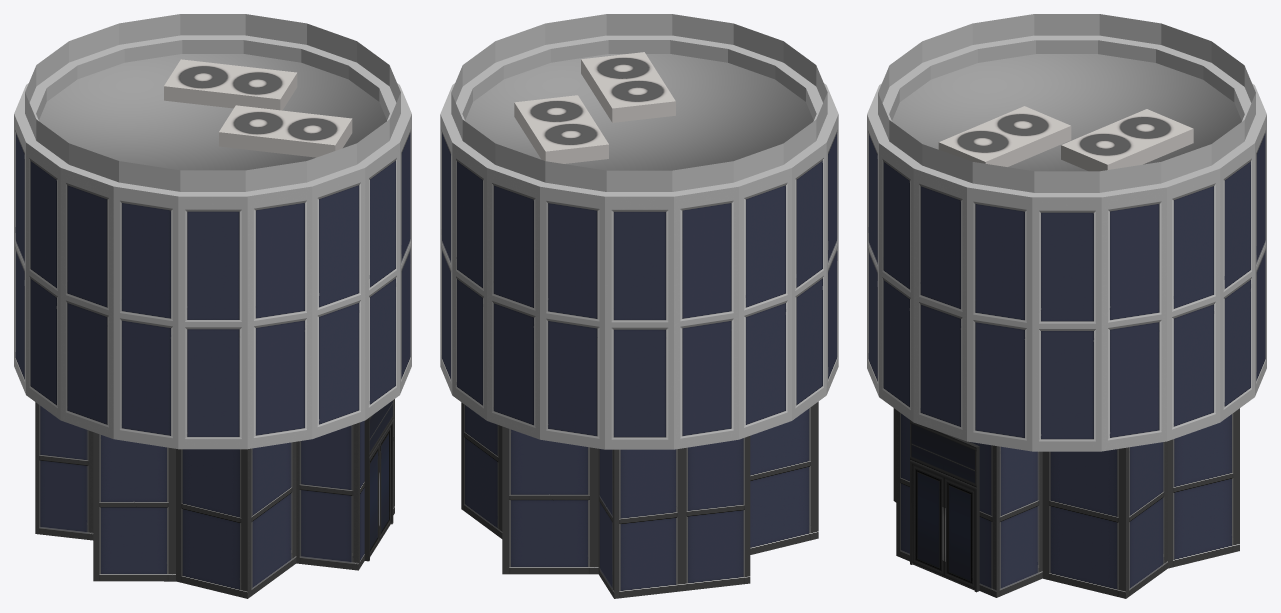
Rendered from Office_Block_lvl_1.fbx.
3 views of the same model, side by side, from view 1: azimuth 30°, elevation 25°; view 2: azimuth 150°, elevation 25°; view 3: azimuth 270°, elevation 25° (orthographic).
Parts seen in each view (by area): view 1: Office_Block_lvl_1, Office_Block_lvl_1_Fence, Door; view 2: Office_Block_lvl_1, Office_Block_lvl_1_Fence; view 3: Office_Block_lvl_1, Office_Block_lvl_1_Fence, Door.
Boxes of the visible parts, x1,y1,x2,y2 form: Office_Block_lvl_1: (14, 35, 411, 598); Office_Block_lvl_1_Fence: (25, 14, 400, 191); Door: (364, 400, 393, 561); Office_Block_lvl_1: (440, 35, 838, 598); Office_Block_lvl_1_Fence: (451, 14, 827, 191); Office_Block_lvl_1: (867, 35, 1266, 598); Office_Block_lvl_1_Fence: (878, 14, 1255, 192); Door: (910, 420, 979, 592).
Size of what is drawn, in the model's own units: 883 by 1072 by 897.
